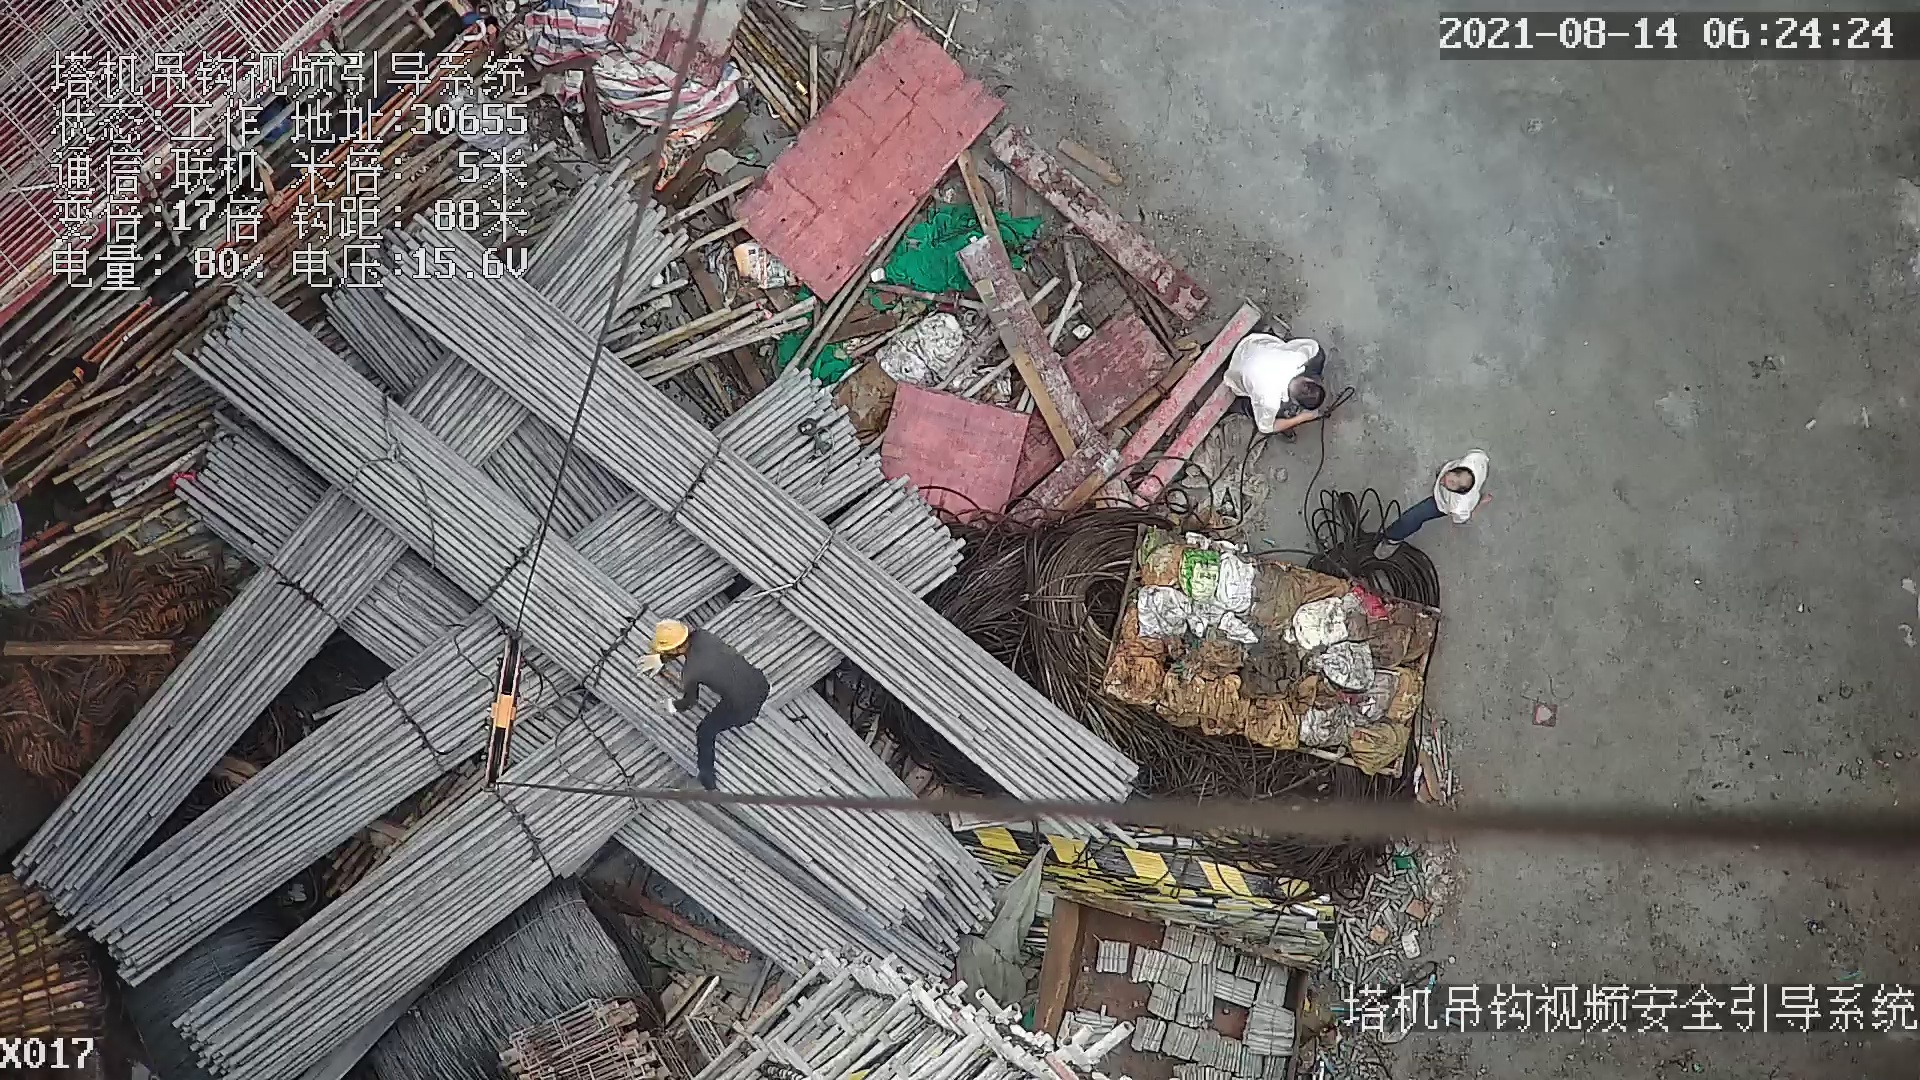helmet: (652, 619, 687, 650)
hook: (474, 631, 526, 797)
person: (638, 612, 772, 799), (1365, 440, 1495, 565), (1223, 330, 1332, 444)
rebar: (181, 285, 944, 927), (388, 280, 1135, 837), (174, 706, 692, 1080), (77, 608, 567, 981), (19, 484, 409, 919)
wood: (1, 870, 113, 1035)
